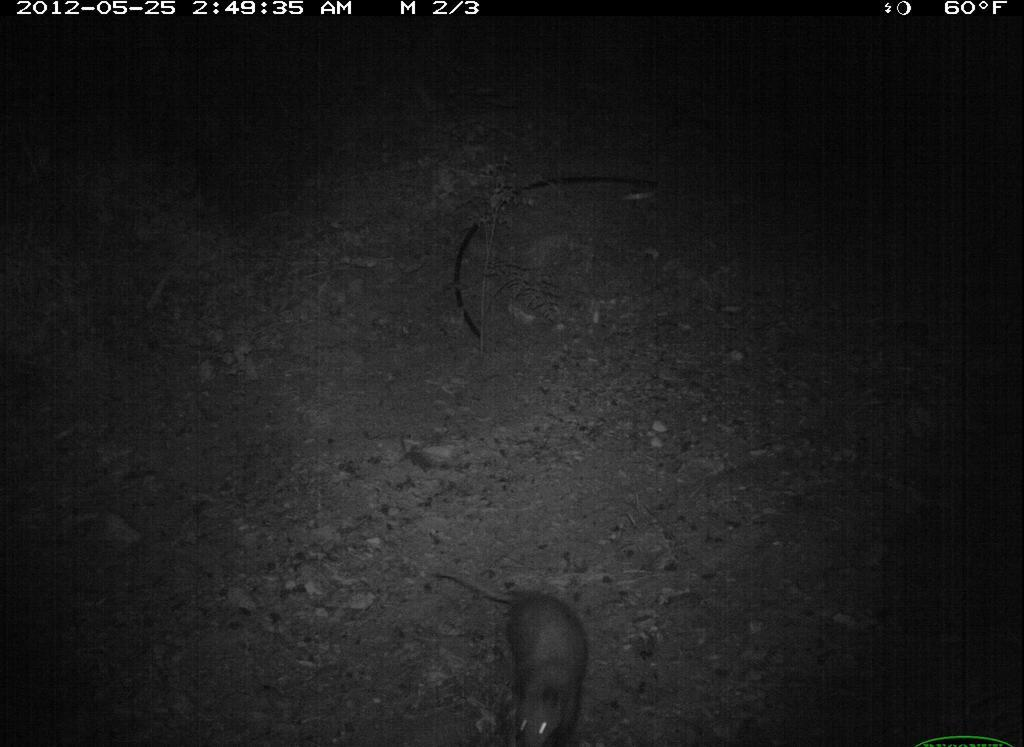opossum: (430, 566, 593, 747)
